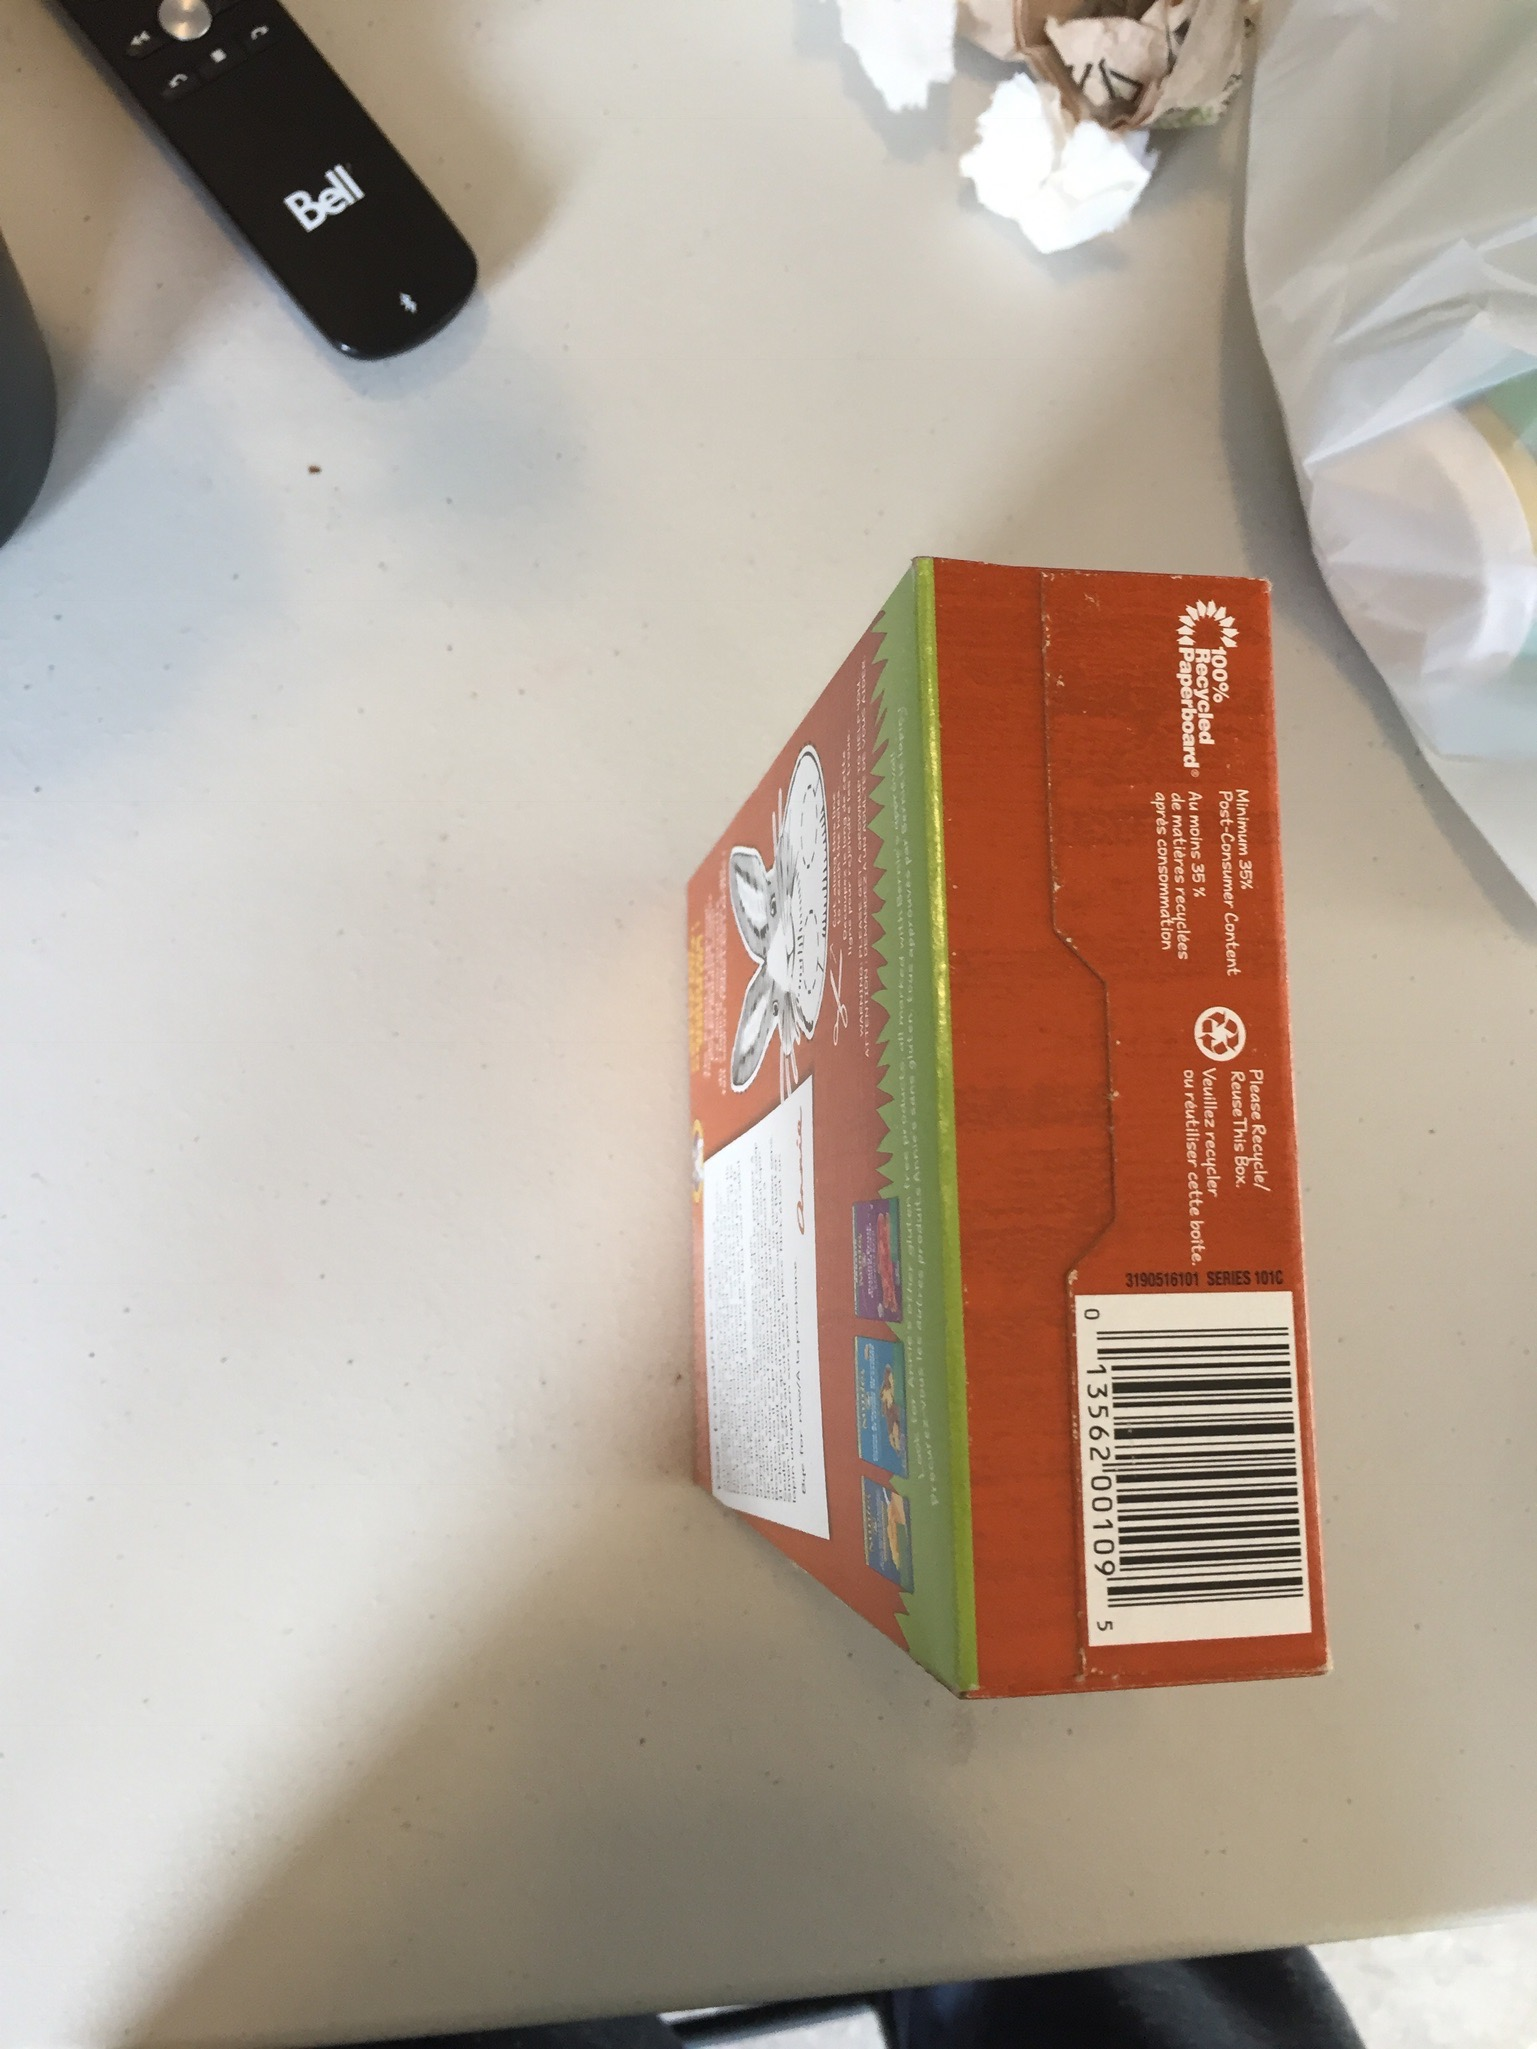annies_snickerdoodles_cinnamon_sugar: (883, 618, 1308, 1671)
